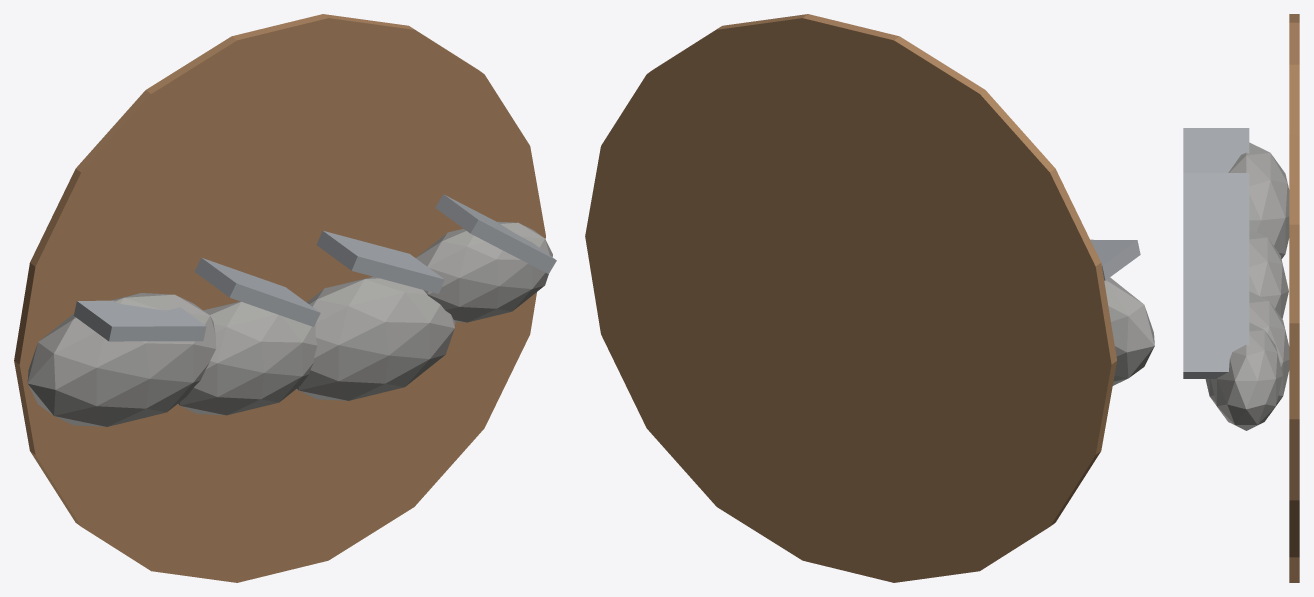
The model's file is 02_display_prop_cluster.glb.
The picture shows the model from 3 angles, left to right: view 1: azimuth 30°, elevation 25°; view 2: azimuth 150°, elevation 25°; view 3: azimuth 270°, elevation 25°; orthographic projection. The views are drawn at different scales.
Parts seen in each view (by area): view 1: scatter_base, scrap_rock_0, scrap_rock_2, scrap_rock_1, scrap_rock_3, scrap_plate_0, scrap_plate_2, scrap_plate_1, scrap_plate_3; view 2: scatter_base, scrap_rock_0, scrap_plate_0; view 3: scatter_base, scrap_plate_3, scrap_rock_3, scrap_plate_1, scrap_rock_0, scrap_plate_2, scrap_plate_0, scrap_rock_1, scrap_rock_2.
Part boxes in pixels (left/top/right/bottom): scatter_base: left=14, top=14, right=545, bottom=582; scrap_rock_0: left=27, top=293, right=216, bottom=426; scrap_rock_2: left=297, top=276, right=455, bottom=400; scrap_rock_1: left=178, top=301, right=317, bottom=415; scrap_rock_3: left=416, top=221, right=552, bottom=322; scrap_plate_0: left=73, top=300, right=206, bottom=341; scrap_plate_2: left=316, top=230, right=444, bottom=293; scrap_plate_1: left=194, top=257, right=320, bottom=326; scrap_plate_3: left=435, top=194, right=556, bottom=273; scatter_base: left=585, top=14, right=1116, bottom=582; scrap_rock_0: left=1104, top=277, right=1154, bottom=385; scrap_plate_0: left=1090, top=239, right=1140, bottom=280; scatter_base: left=1289, top=14, right=1299, bottom=582; scrap_plate_3: left=1183, top=279, right=1249, bottom=378; scrap_rock_3: left=1210, top=322, right=1282, bottom=430; scrap_plate_1: left=1183, top=173, right=1249, bottom=230; scrap_rock_0: left=1228, top=142, right=1289, bottom=258; scrap_plate_2: left=1183, top=231, right=1249, bottom=279; scrap_plate_0: left=1183, top=128, right=1249, bottom=172; scrap_rock_1: left=1249, top=231, right=1288, bottom=318; scrap_rock_2: left=1205, top=291, right=1289, bottom=412.
Bounding box in the file's own units: 1.95 × 1.87 × 0.3875.
